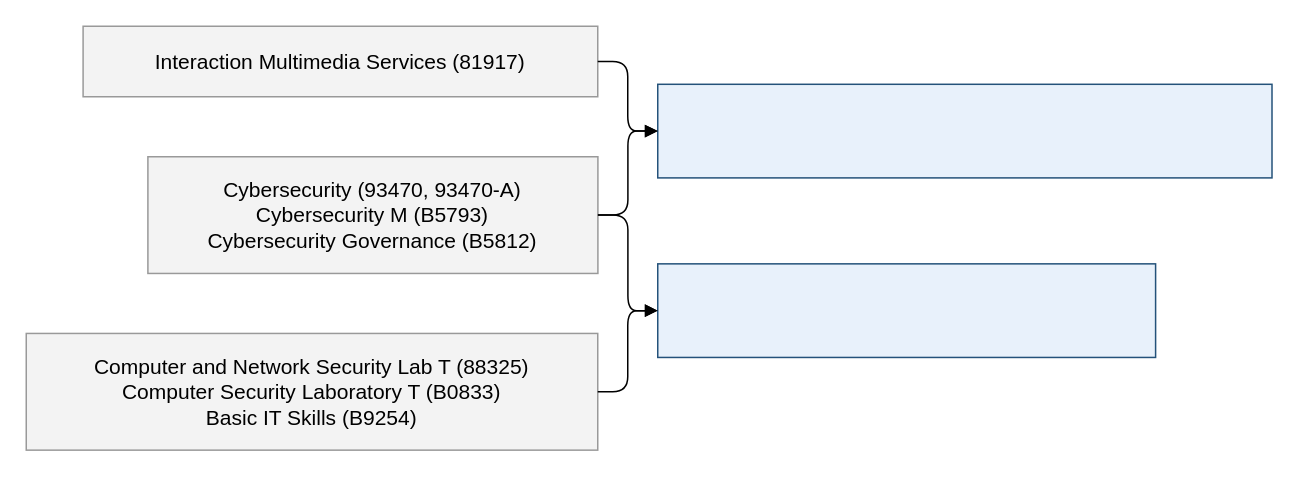
This 1299x477 diagram has some shape labels left out. The shapes that lost their labels are listed below. From the top down, each one's centre as x and y in pixels, then its label:
At [964,130]: "Advanced Cybersecurity Approaches and Contexts 3 ECTS".
At [906,309]: "Cybersecurity Governance Foundations 3 ECTS".
